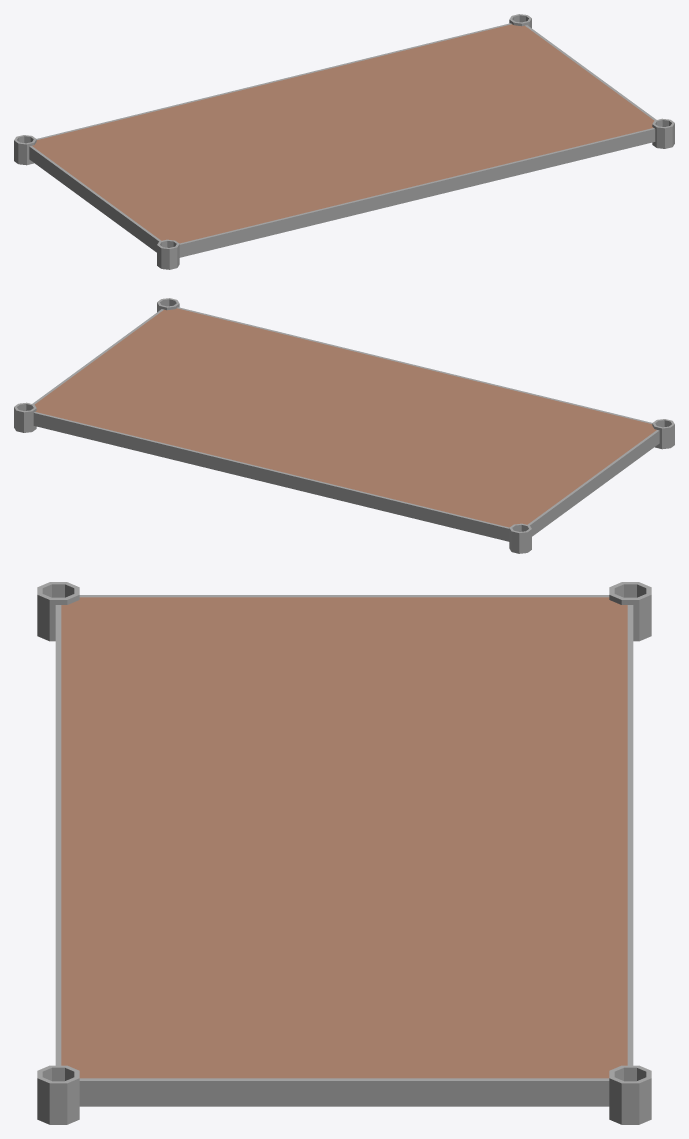
Rendered from MetalRack_Shelf_Board.fbx.
The picture shows the model from 3 angles, top to bottom: view 1: azimuth 30°, elevation 25°; view 2: azimuth 150°, elevation 25°; view 3: azimuth 270°, elevation 25°; orthographic projection. The views are drawn at different scales.
Visible parts, largest first — view 1: Shelf_Board; view 2: Shelf_Board; view 3: Shelf_Board.
Boxes of the visible parts, x1,y1,x2,y2 form: Shelf_Board: (14, 14, 674, 269); Shelf_Board: (14, 298, 674, 553); Shelf_Board: (37, 582, 651, 1124).
Bounding box in the file's own units: 104 × 4 × 53.7.
